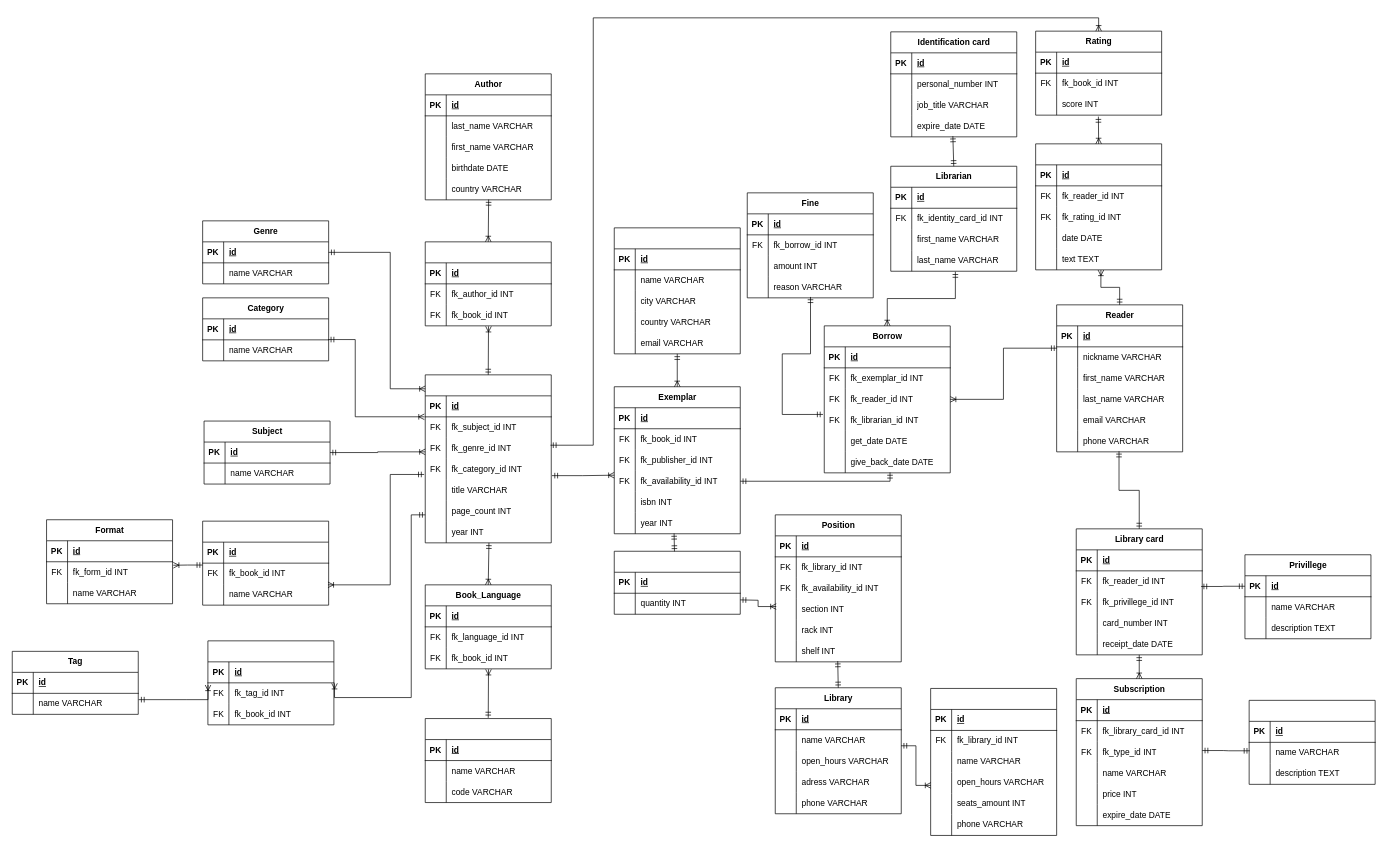
Image size: 1387x848. Some labels were removed from this diagram. Each missing label, with the box of its shape:
Author_Book: (425, 241, 551, 326)
Availability: (614, 551, 740, 614)
Book: (425, 374, 551, 543)
Book_Tag: (207, 640, 334, 725)
Form: (202, 520, 329, 605)
Language: (425, 718, 551, 803)
Publisher: (614, 227, 740, 354)
Reading room: (930, 688, 1057, 835)
Review: (1035, 143, 1162, 270)
Type: (1248, 700, 1375, 784)
